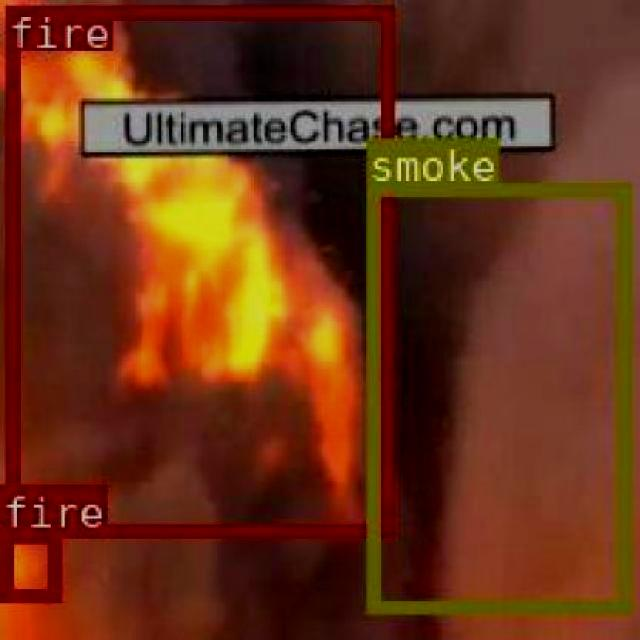fire: (2, 3, 390, 534), (0, 527, 57, 601)
smoke: (366, 182, 628, 610)
